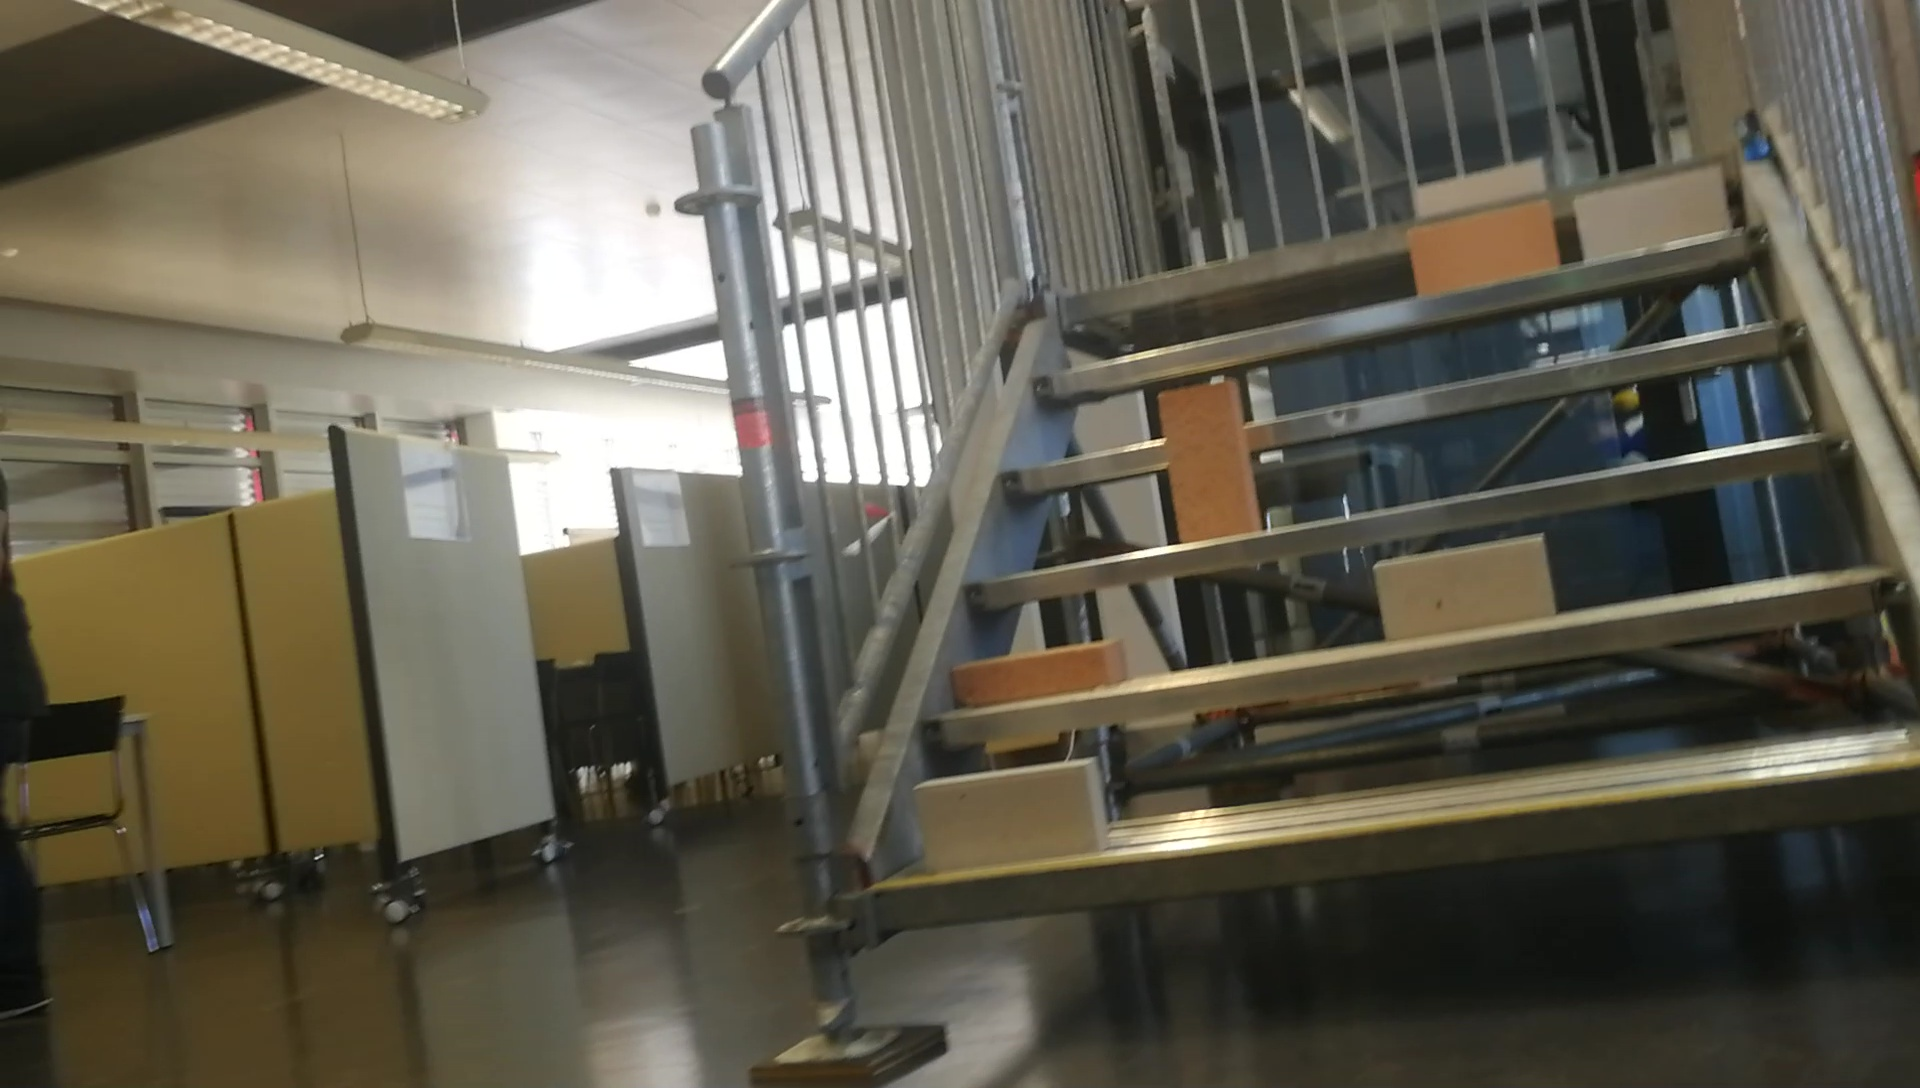brick: (915, 762, 1102, 866), (1378, 531, 1555, 640), (1158, 377, 1255, 542), (1406, 200, 1563, 291), (1577, 167, 1725, 256), (949, 641, 1125, 698), (1414, 161, 1540, 204)
edge: (862, 764, 1920, 924), (924, 574, 1904, 745), (976, 429, 1847, 613), (1001, 317, 1808, 495), (1033, 223, 1767, 400)
stairs: (678, 0, 1920, 1077)
steps: (824, 142, 1920, 950)
